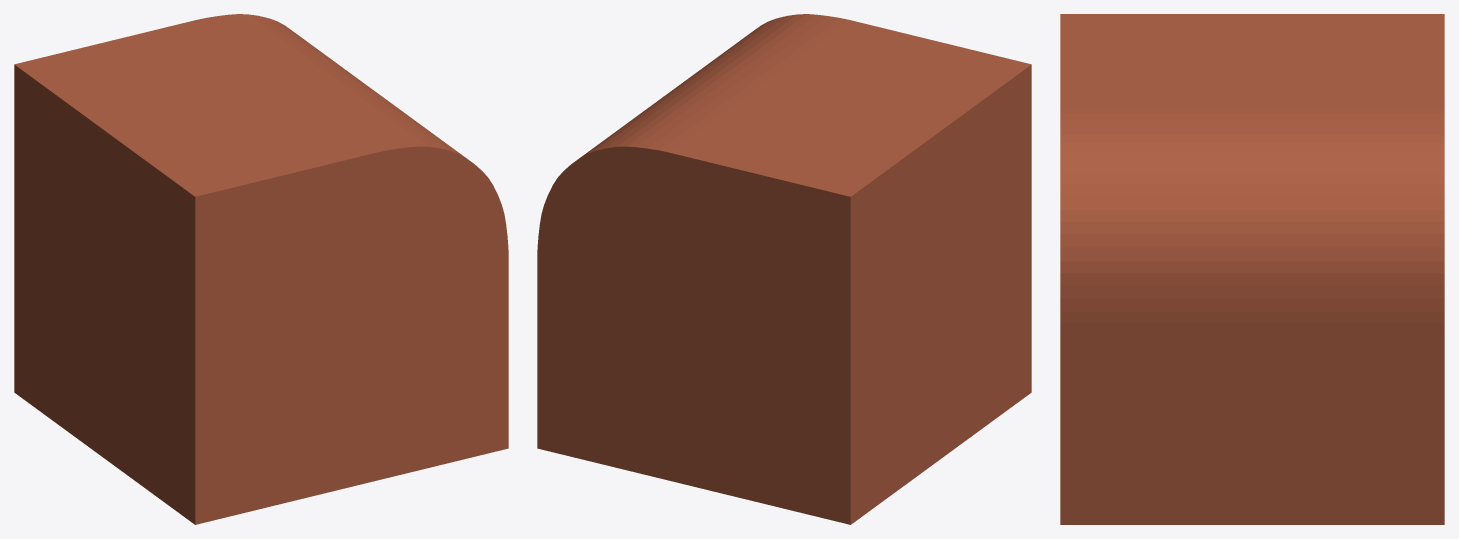
3 renders of one model, left to right at view 1: azimuth 30°, elevation 25°; view 2: azimuth 150°, elevation 25°; view 3: azimuth 270°, elevation 25°, orthographic. The views are drawn at different scales.
Parts seen in each view (by area): view 1: Cube; view 2: Cube; view 3: Cube.
Part boxes in pixels (bbox=[...]): Cube: bbox=[14, 14, 508, 524]; Cube: bbox=[537, 14, 1031, 524]; Cube: bbox=[1060, 14, 1444, 524].
Bounding box in the file's own units: 100 × 100 × 100.
